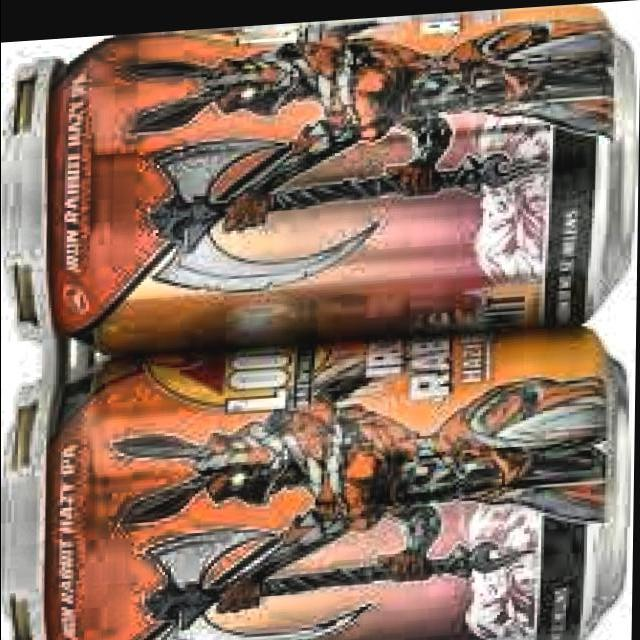Aluminum Can: (1, 0, 640, 357), (0, 321, 636, 640)
